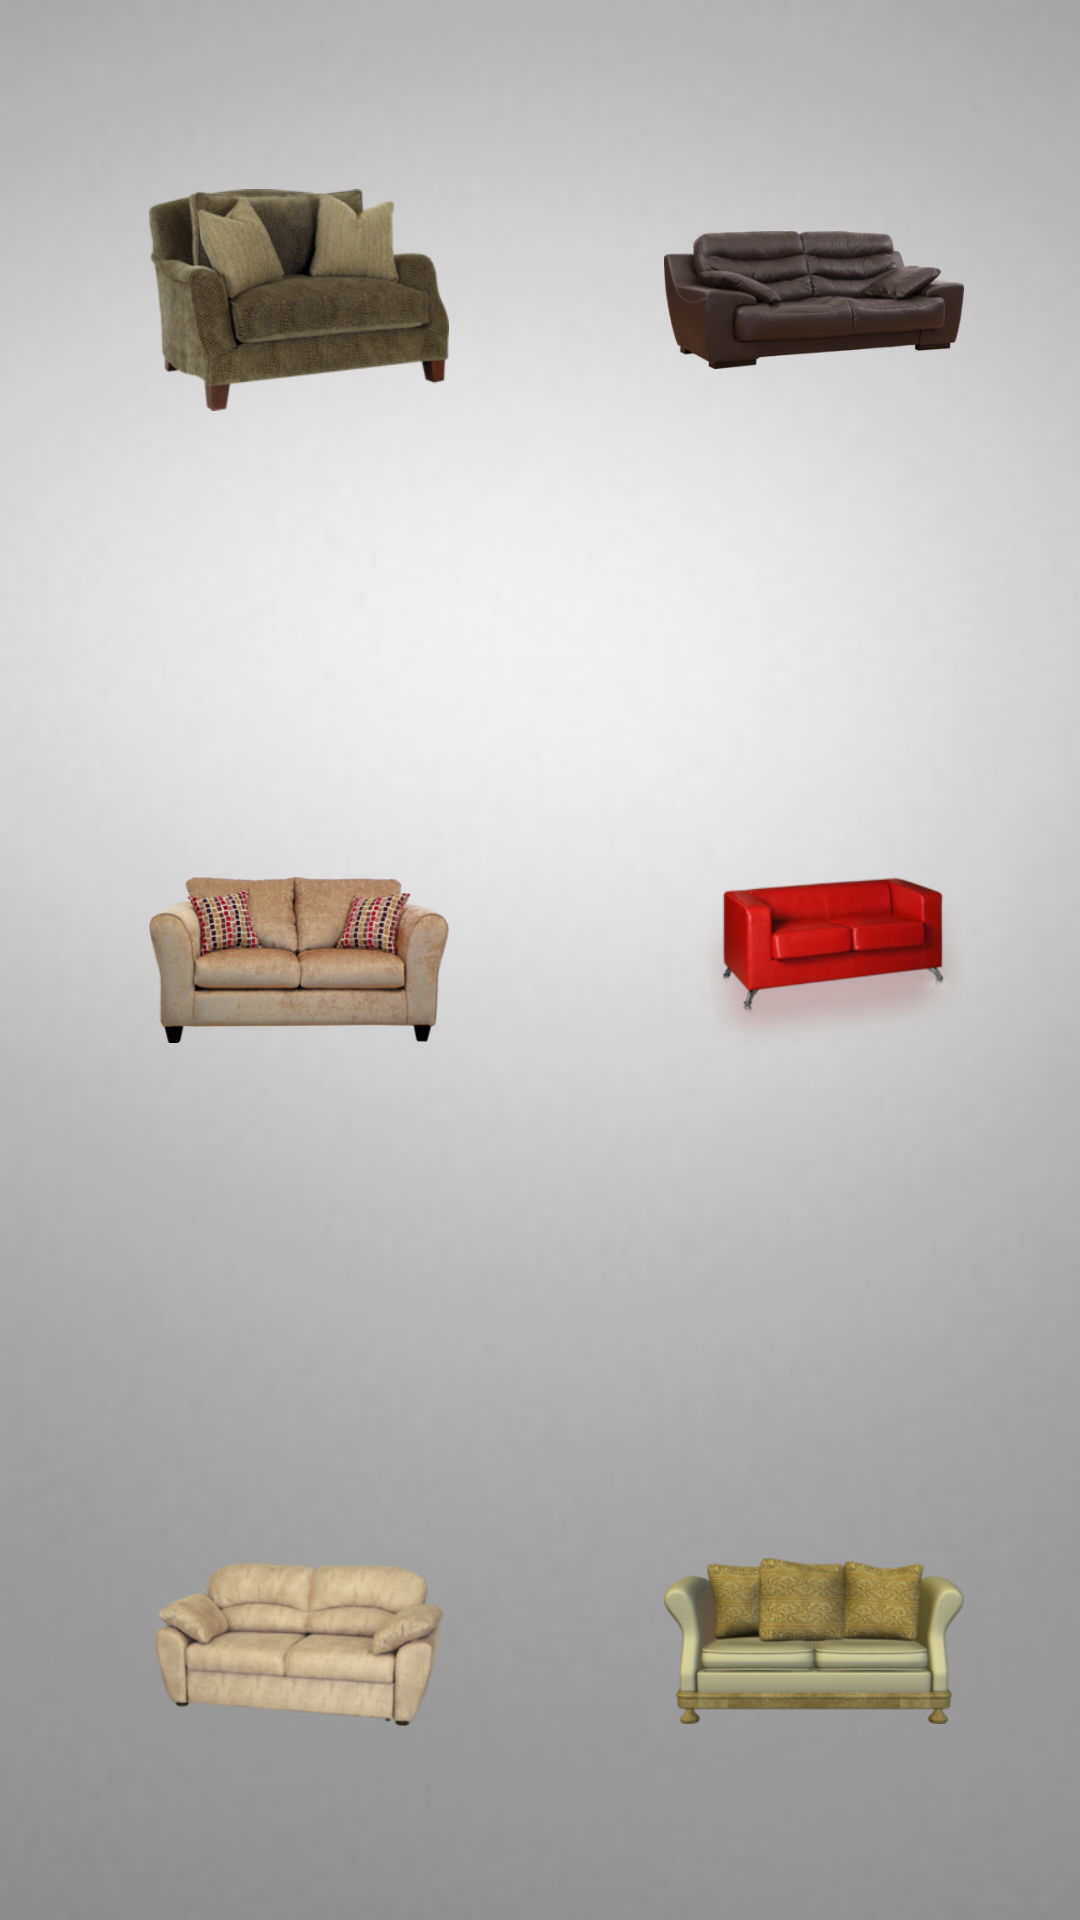

Screen size 1080x1920. Icon name, then its box in pixels as (x1, y1, x2, y2):
sofa: (149, 189, 449, 450), (664, 231, 964, 450), (685, 816, 944, 1015), (149, 877, 449, 1110), (664, 1558, 964, 1724), (155, 1563, 443, 1726)
